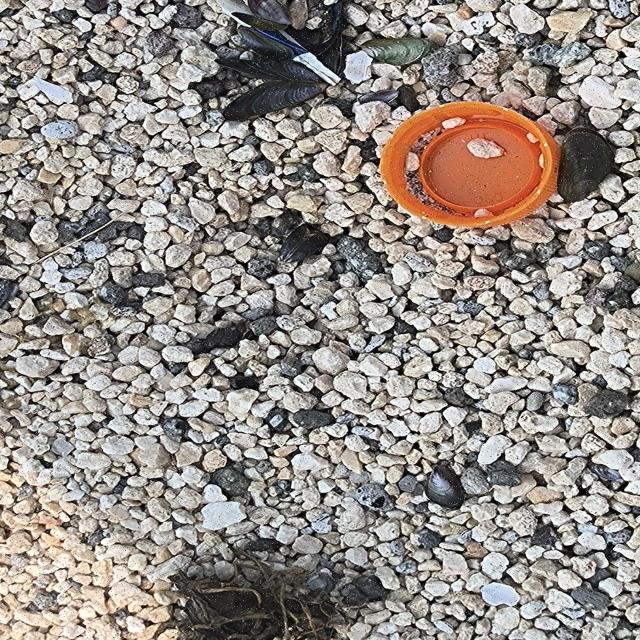plastic_waste: (380, 103, 563, 232)
